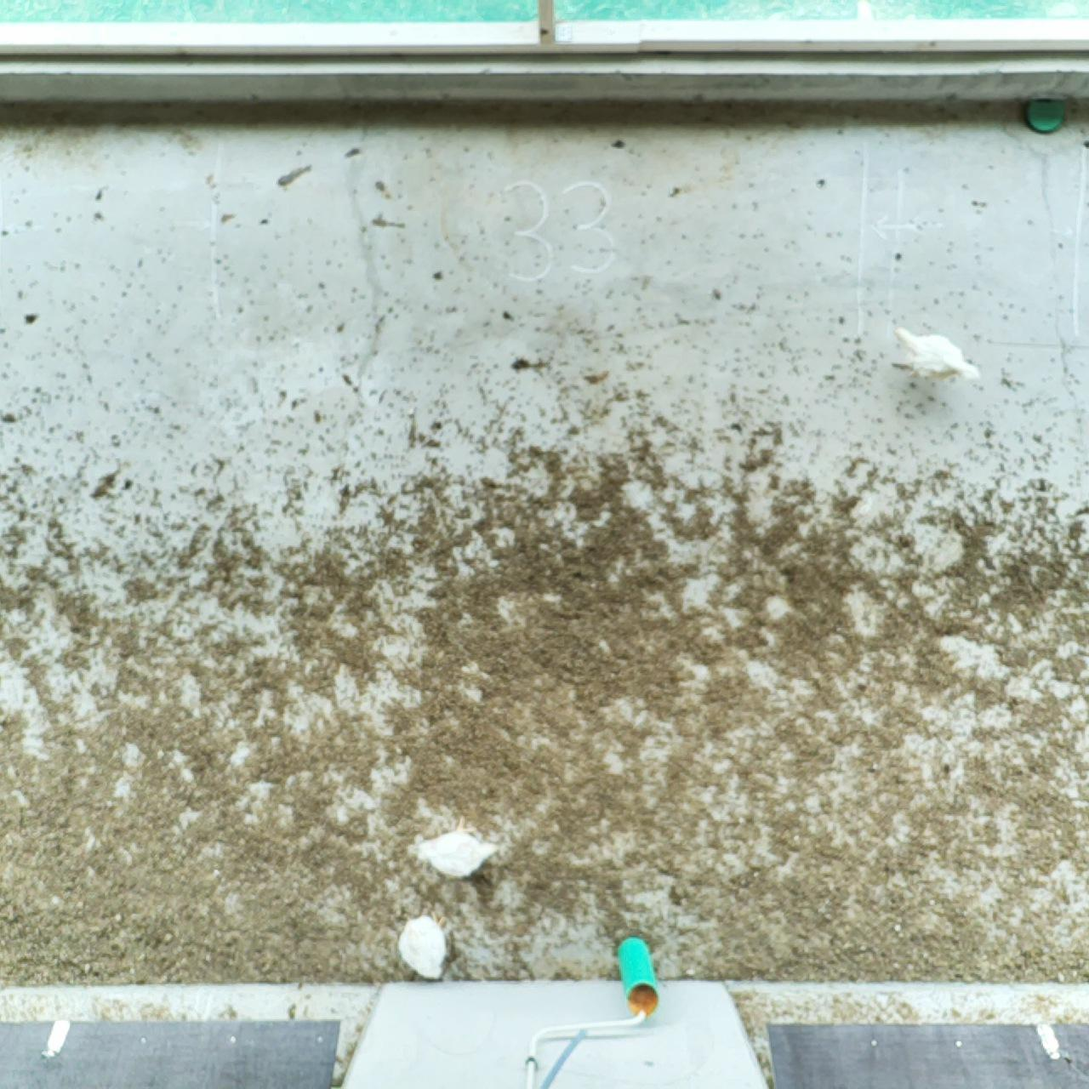chicken: (888, 322, 984, 388), (408, 813, 500, 879), (396, 909, 454, 982)
